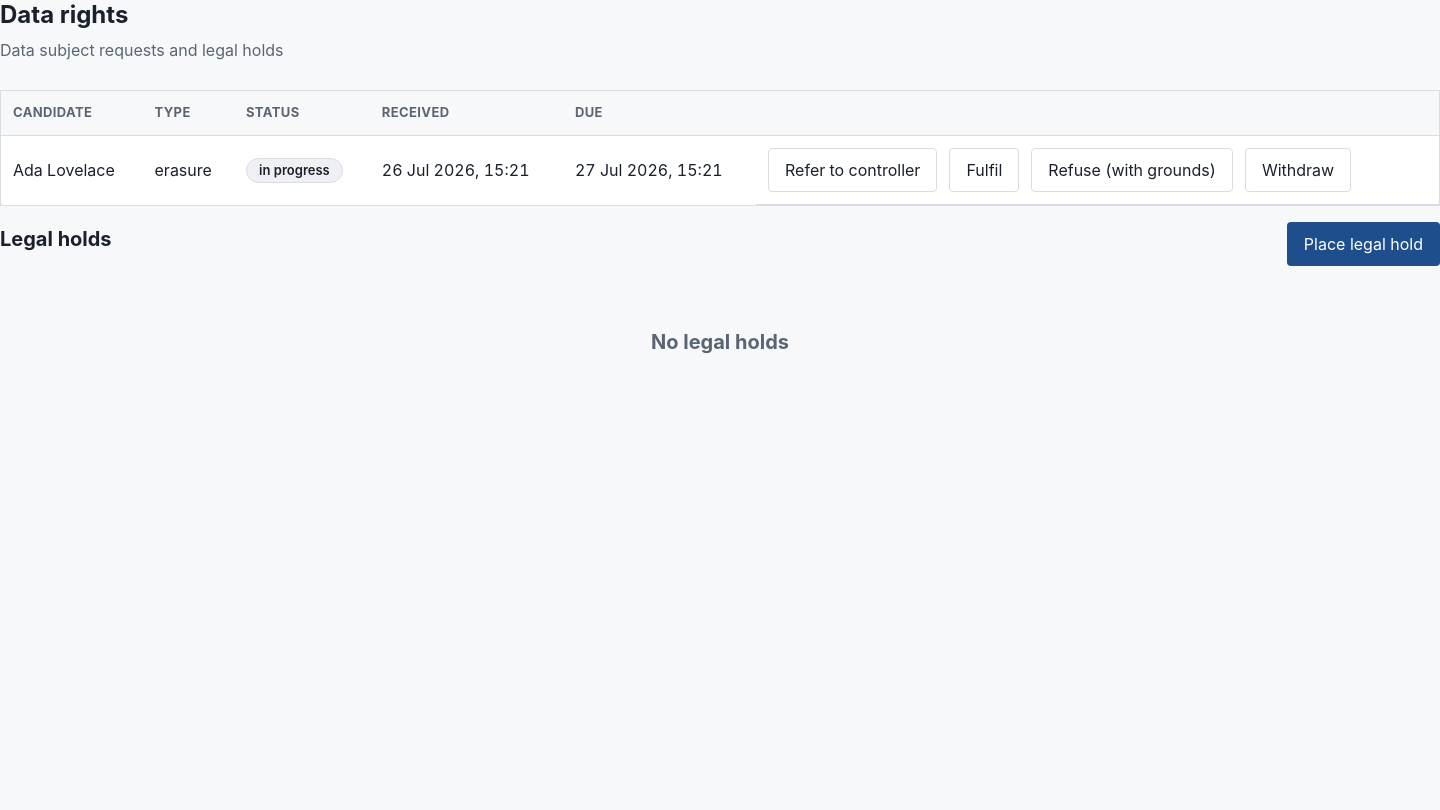
Test: DataRightsPage › shows legal-hold guidance instead of a generic error when fulfilment is blocked
Step 1. Click the button "Fulfil" → coordinates (984, 170), box 949,148 -> 1019,192
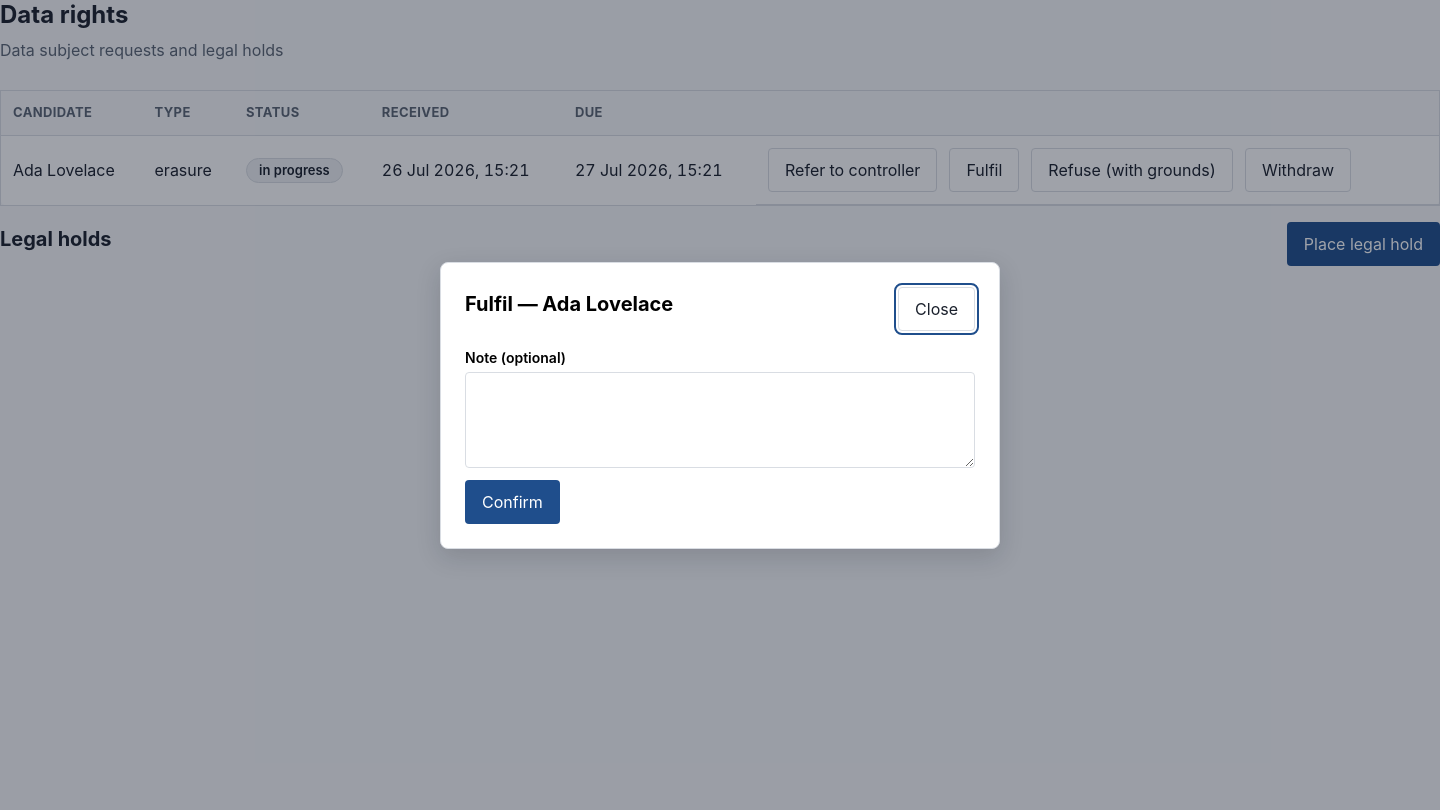
Step 2. Click the button "Confirm" → coordinates (512, 502), box 465,480 -> 560,524
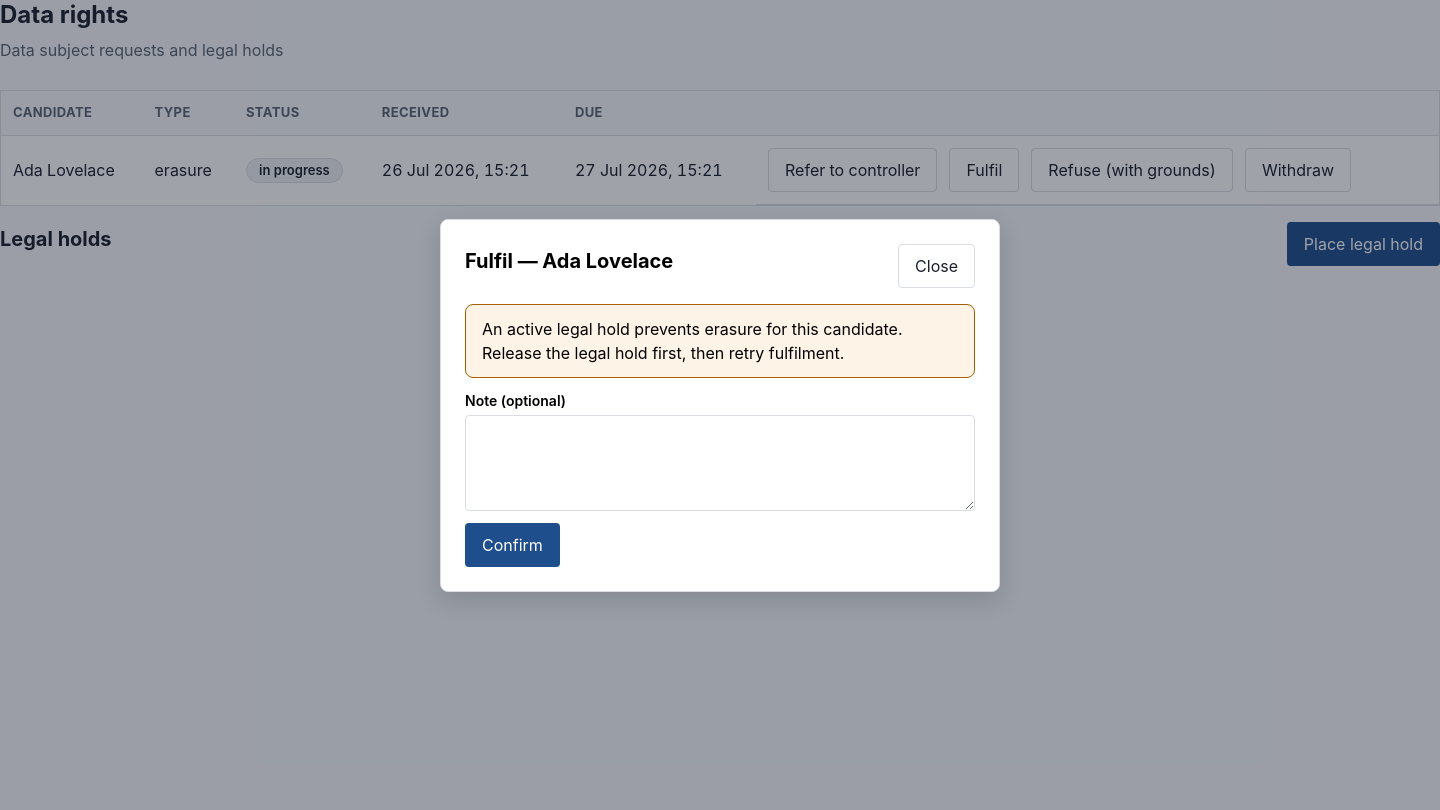
Result: the text "An active legal hold prevents erasure for this candidate" is shown at 482,318 -> 902,362
